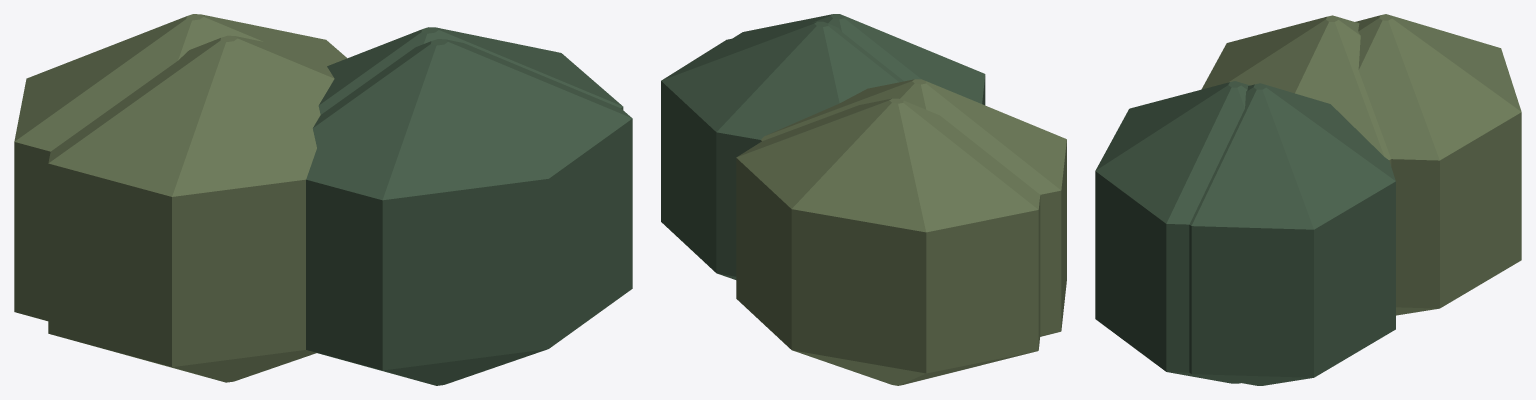
File: NAT_Ground_05_Shrub.glb
The picture shows the model from 3 angles, left to right: view 1: azimuth 30°, elevation 25°; view 2: azimuth 150°, elevation 25°; view 3: azimuth 270°, elevation 25°; orthographic projection. The views are drawn at different scales.
Visible parts, largest first — view 1: NAT_Ground_05_Shrub; view 2: NAT_Ground_05_Shrub; view 3: NAT_Ground_05_Shrub.
Part boxes in pixels (x1,y1,x2,y2): NAT_Ground_05_Shrub: [14, 14, 632, 385]; NAT_Ground_05_Shrub: [661, 14, 1066, 385]; NAT_Ground_05_Shrub: [1095, 14, 1521, 385].
Bounding box in the file's own units: 0.9865 × 0.64 × 0.8351.
